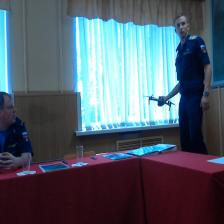drone: (136, 86, 177, 113)
